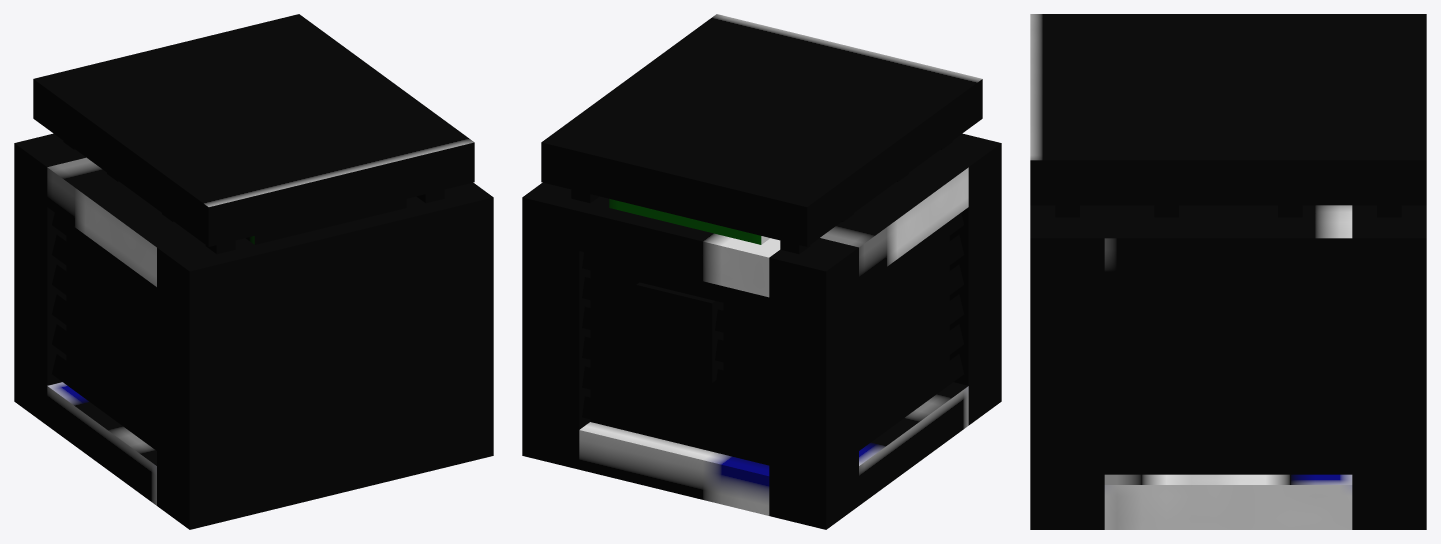
The model's file is block_battery.obj.
3 views of the same model, side by side, from view 1: azimuth 30°, elevation 25°; view 2: azimuth 150°, elevation 25°; view 3: azimuth 270°, elevation 25° (orthographic). The views are drawn at different scales.
Visible parts, largest first — view 1: block_battery; view 2: block_battery; view 3: block_battery.
Boxes of the visible parts, box(x1,y1,x2,y2) form: block_battery: box(14, 14, 493, 529); block_battery: box(522, 14, 1001, 529); block_battery: box(1030, 14, 1426, 529).
Bounding box in the file's own units: 1 × 1 × 1.
